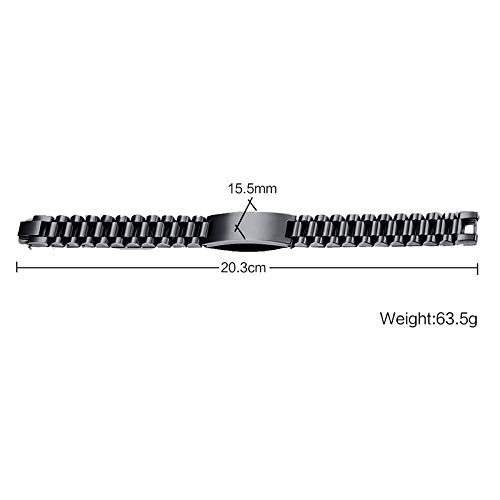1: (476, 268, 478, 275)
15.5mm: (229, 183, 276, 194)
Weight:63.5g: (380, 312, 477, 328)
